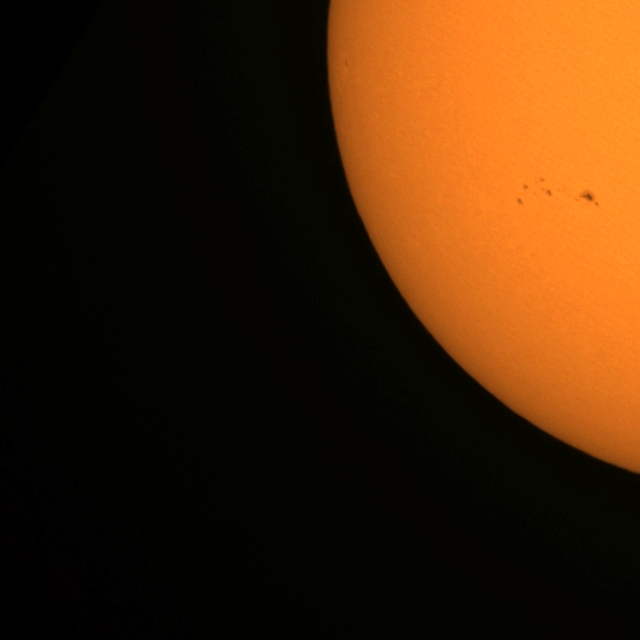sunspot: (518, 176, 554, 199), (575, 189, 600, 207), (342, 57, 351, 70), (516, 197, 524, 206)
